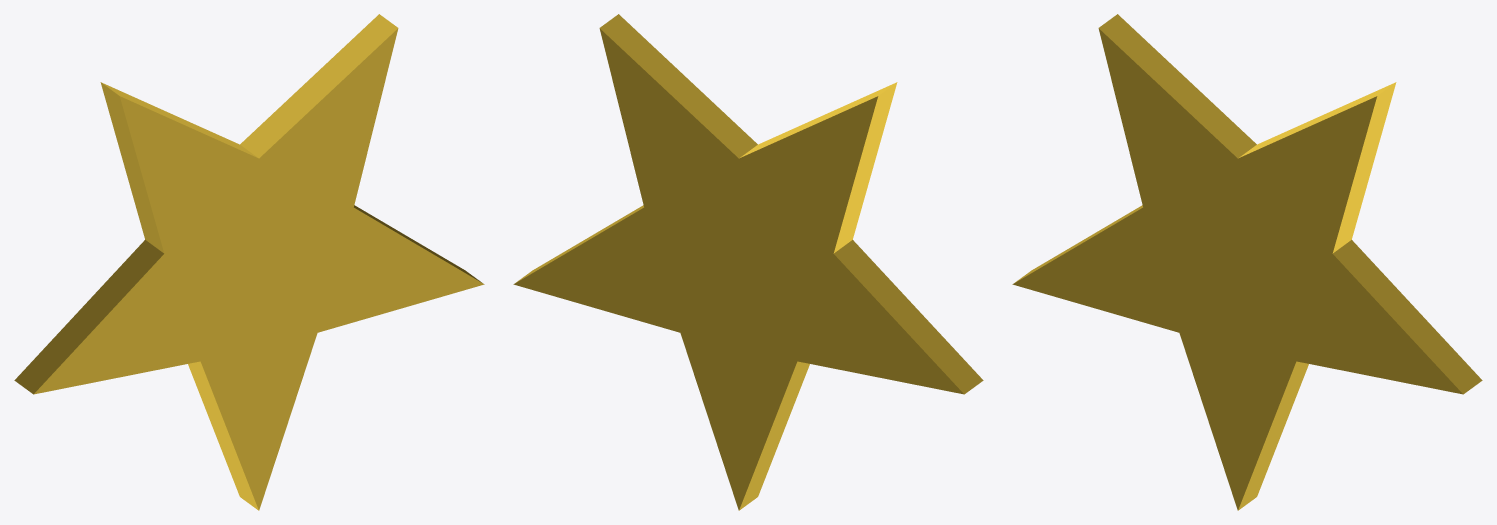
File: badge_woody.glb
The picture shows the model from 3 angles, left to right: view 1: azimuth 30°, elevation 25°; view 2: azimuth 150°, elevation 25°; view 3: azimuth 330°, elevation 25°; orthographic projection.
Parts seen in each view (by area): view 1: badge; view 2: badge; view 3: badge.
Boxes of the visible parts, x1,y1,x2,y2 form: badge: [14, 14, 484, 510]; badge: [513, 14, 983, 510]; badge: [1012, 14, 1482, 510].
Size of the model in its own units: 1.9 by 1.81 by 0.14.
